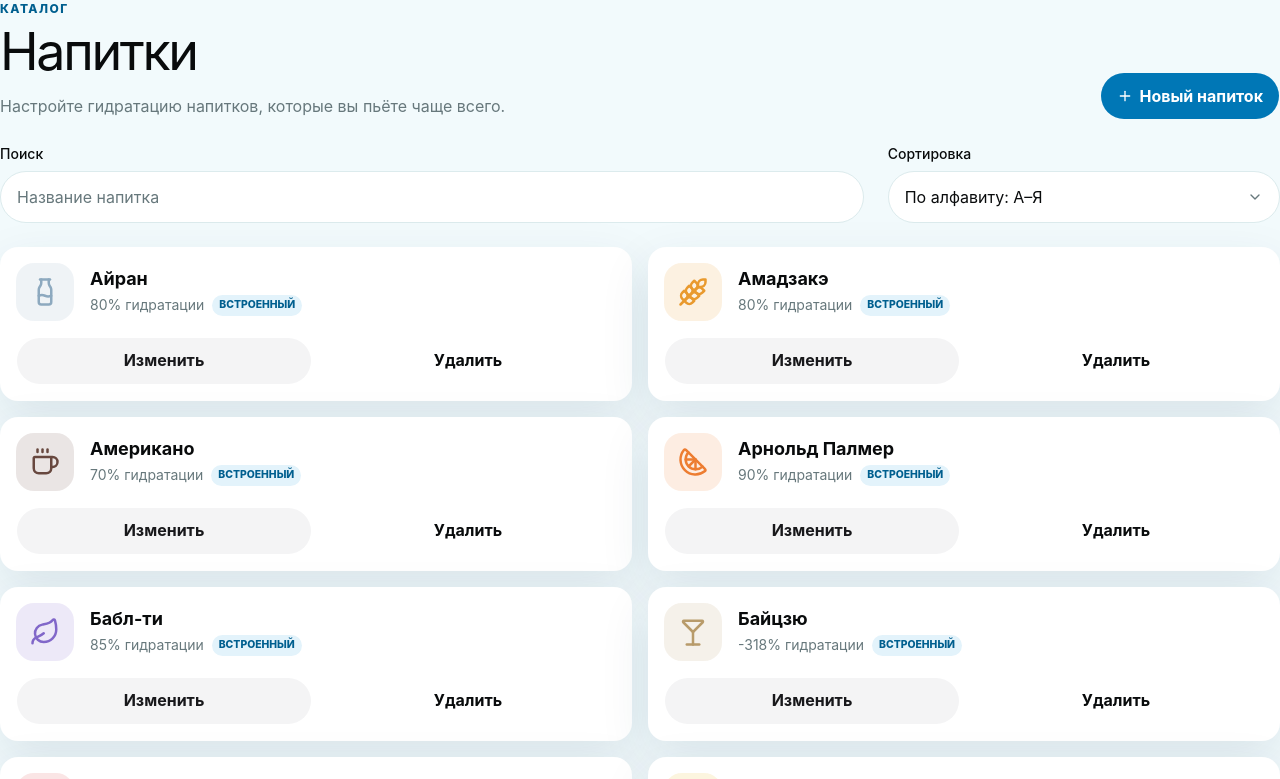
Test case: DrinksPage › фильтрует каталог по названию и очищает запрос
Type "зеленый" into the search field labelled "Поиск" at point(432, 197), box [0, 171, 864, 223]
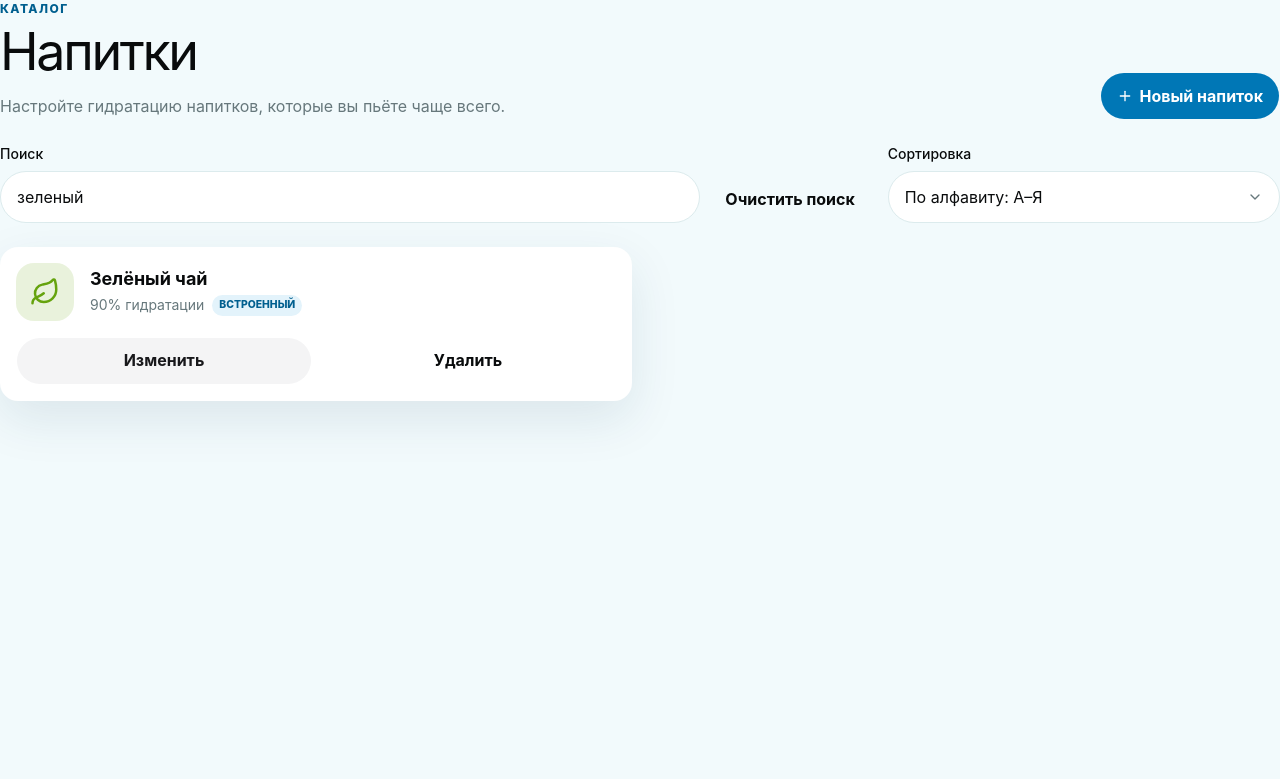
Check: the heading "Зелёный чай" is shown, box [90, 268, 208, 289]
Check: the heading "Вода" is not shown
Click the button "Очистить поиск" at point(790, 199), box [708, 175, 872, 223]
(page scrolled)
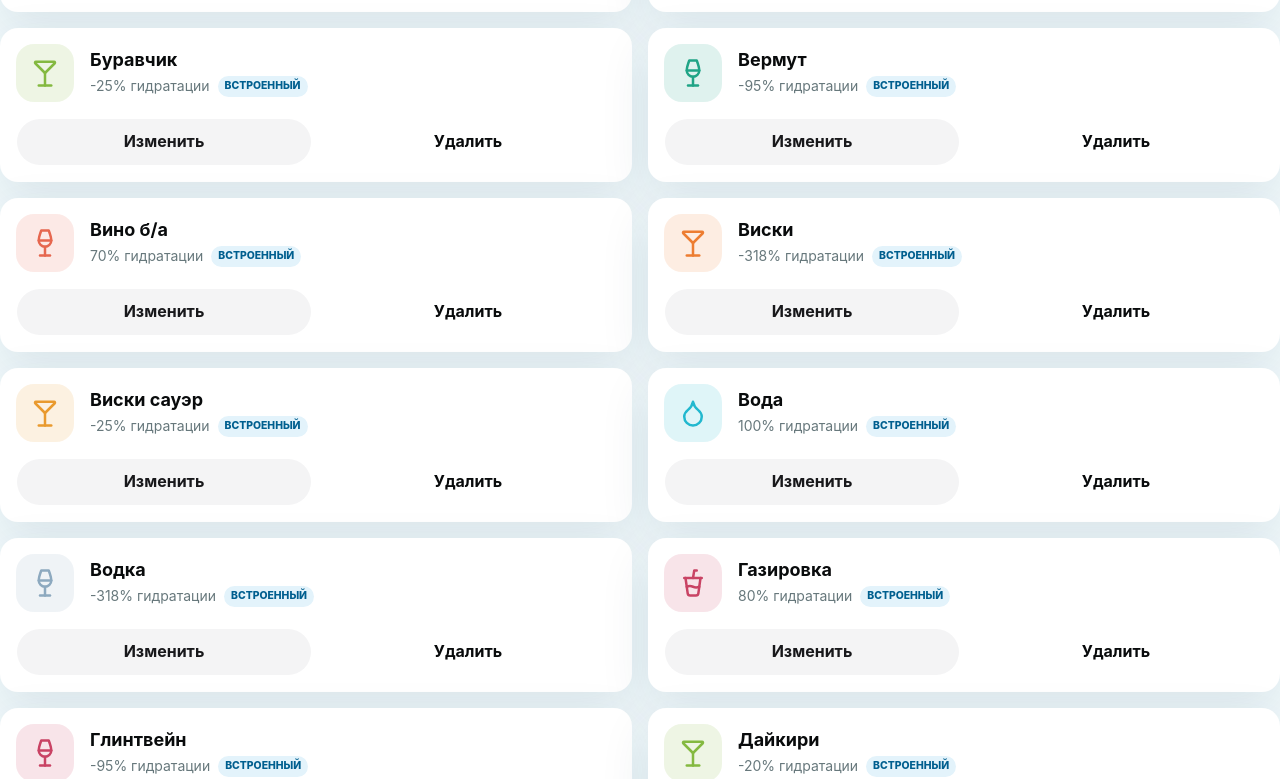
Check: the heading "Вода" is shown, box [738, 389, 783, 410]
